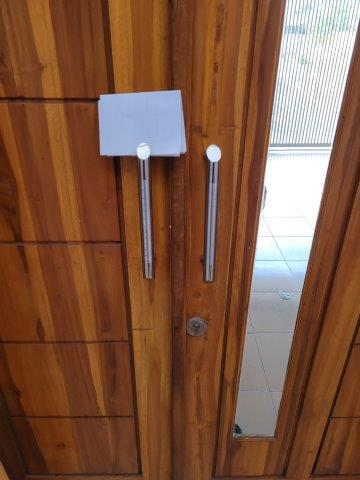kertas: (97, 90, 186, 156)
